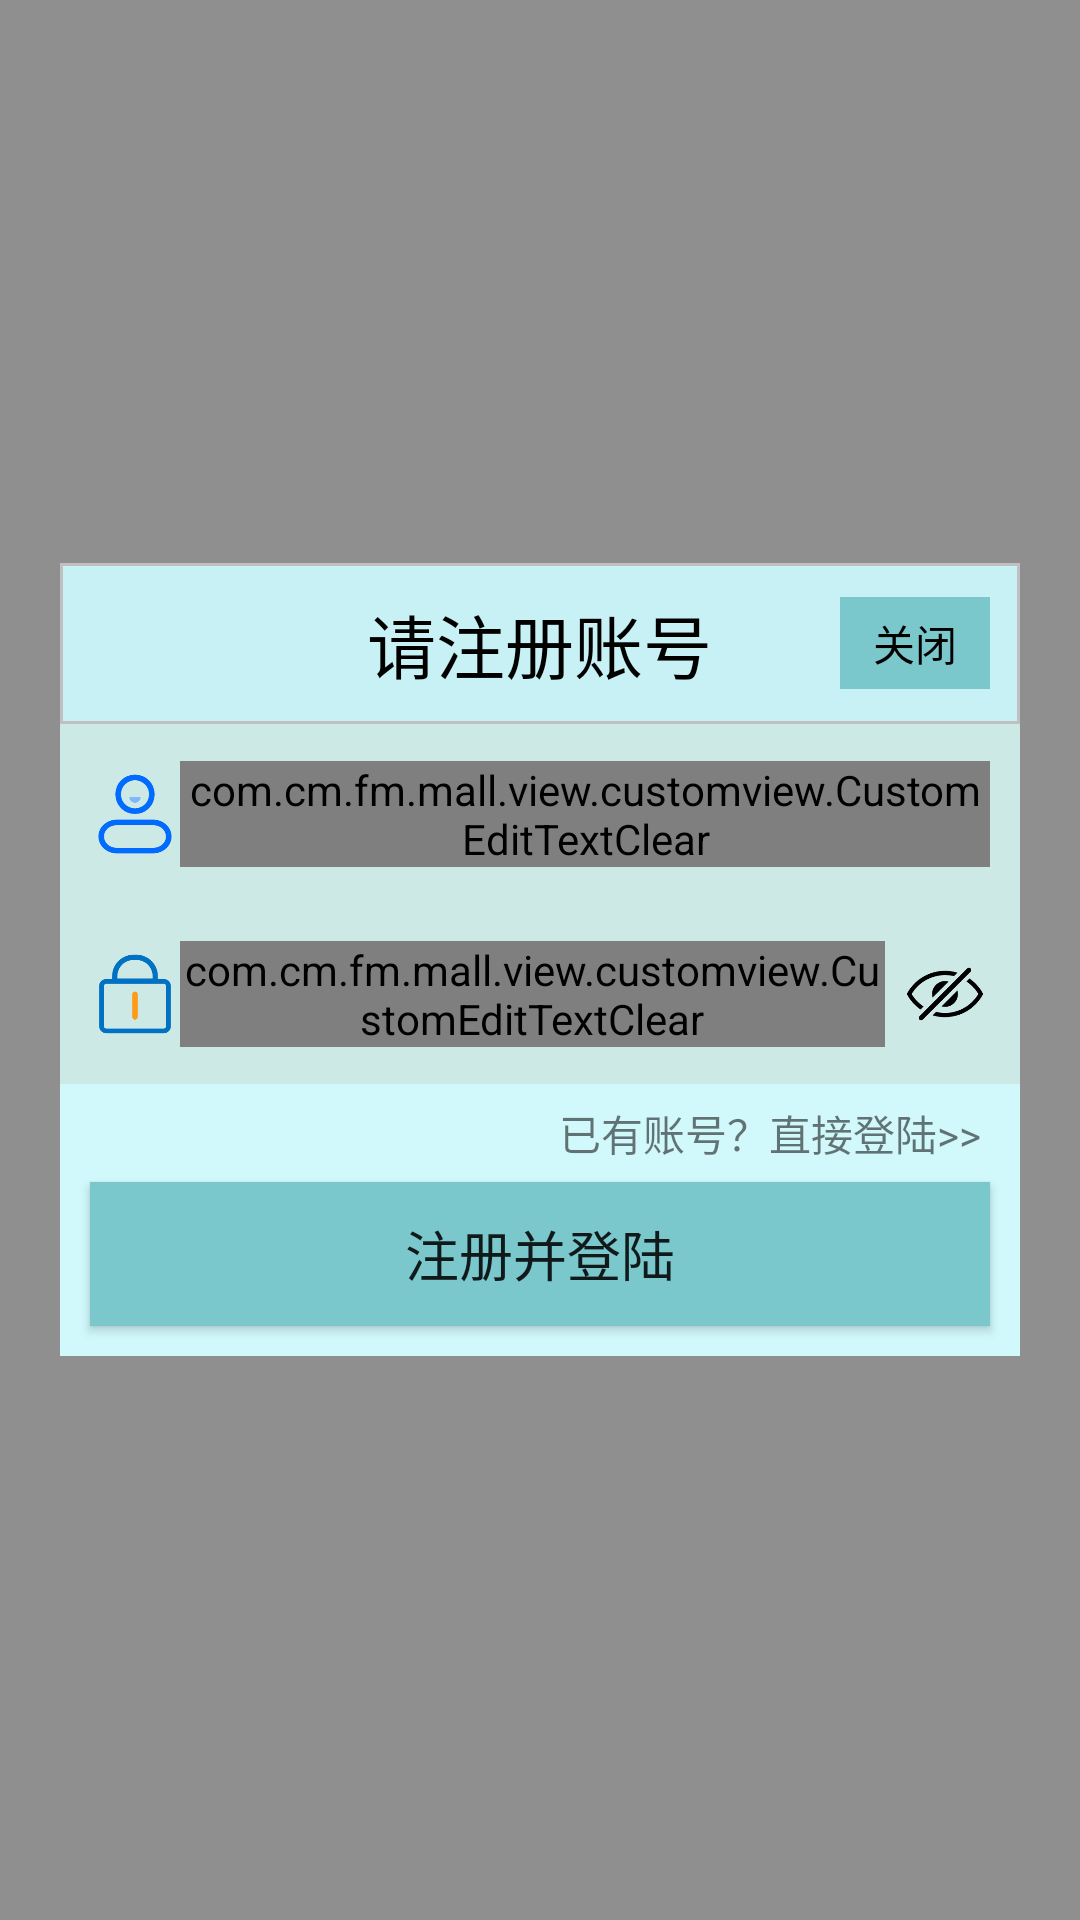

Locate icon controls on the screen. Image size 1080px x 1920px, boxes as (x1, y1, x2, y2).
account: (98, 774, 172, 854)
password: (99, 954, 171, 1034)
pwd hide: (907, 967, 983, 1021)
